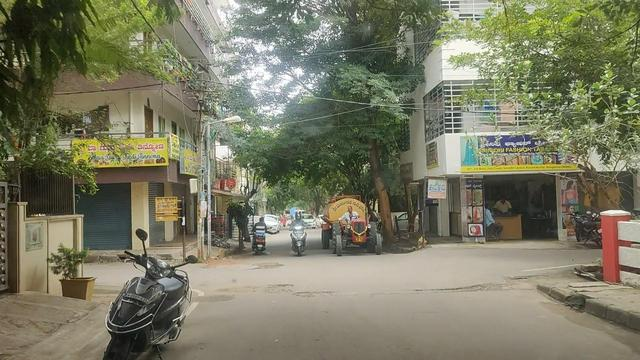HMV: (317, 193, 384, 254)
LMV: (106, 230, 190, 360), (287, 211, 311, 255), (252, 210, 274, 252)
RoadDamages: (383, 264, 513, 297), (293, 278, 340, 301), (245, 276, 296, 297), (248, 254, 294, 273)
